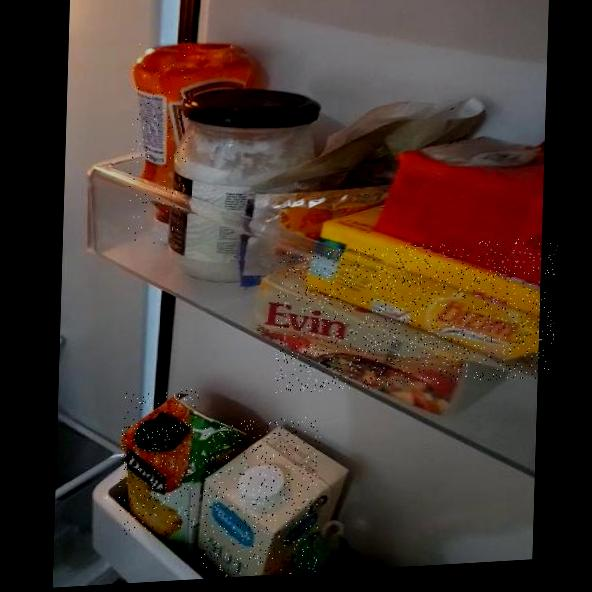butter: (275, 236, 558, 394)
juice: (118, 388, 199, 535)
milk: (200, 416, 321, 579)
sauce: (128, 38, 192, 245)
